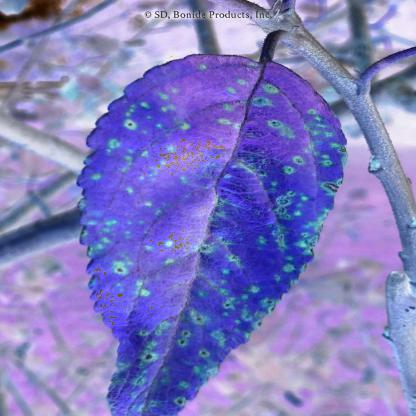Apple Scab Leaf: (76, 44, 340, 414)
